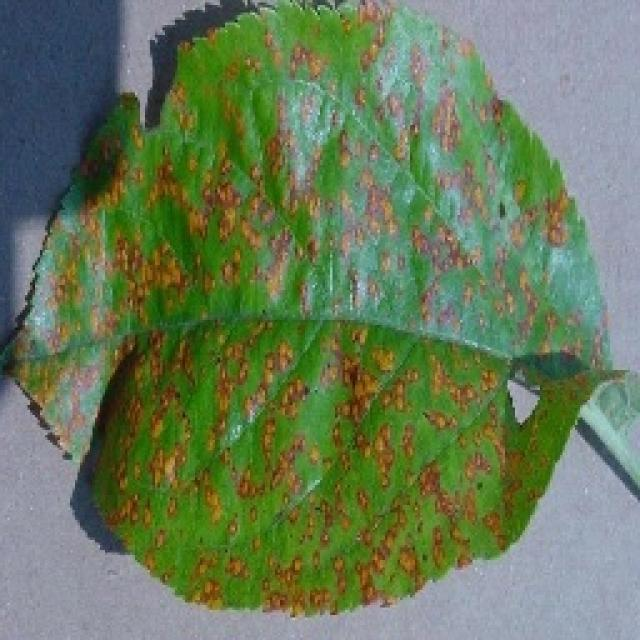Gymnosporangium_Rusts: (0, 0, 630, 618)
